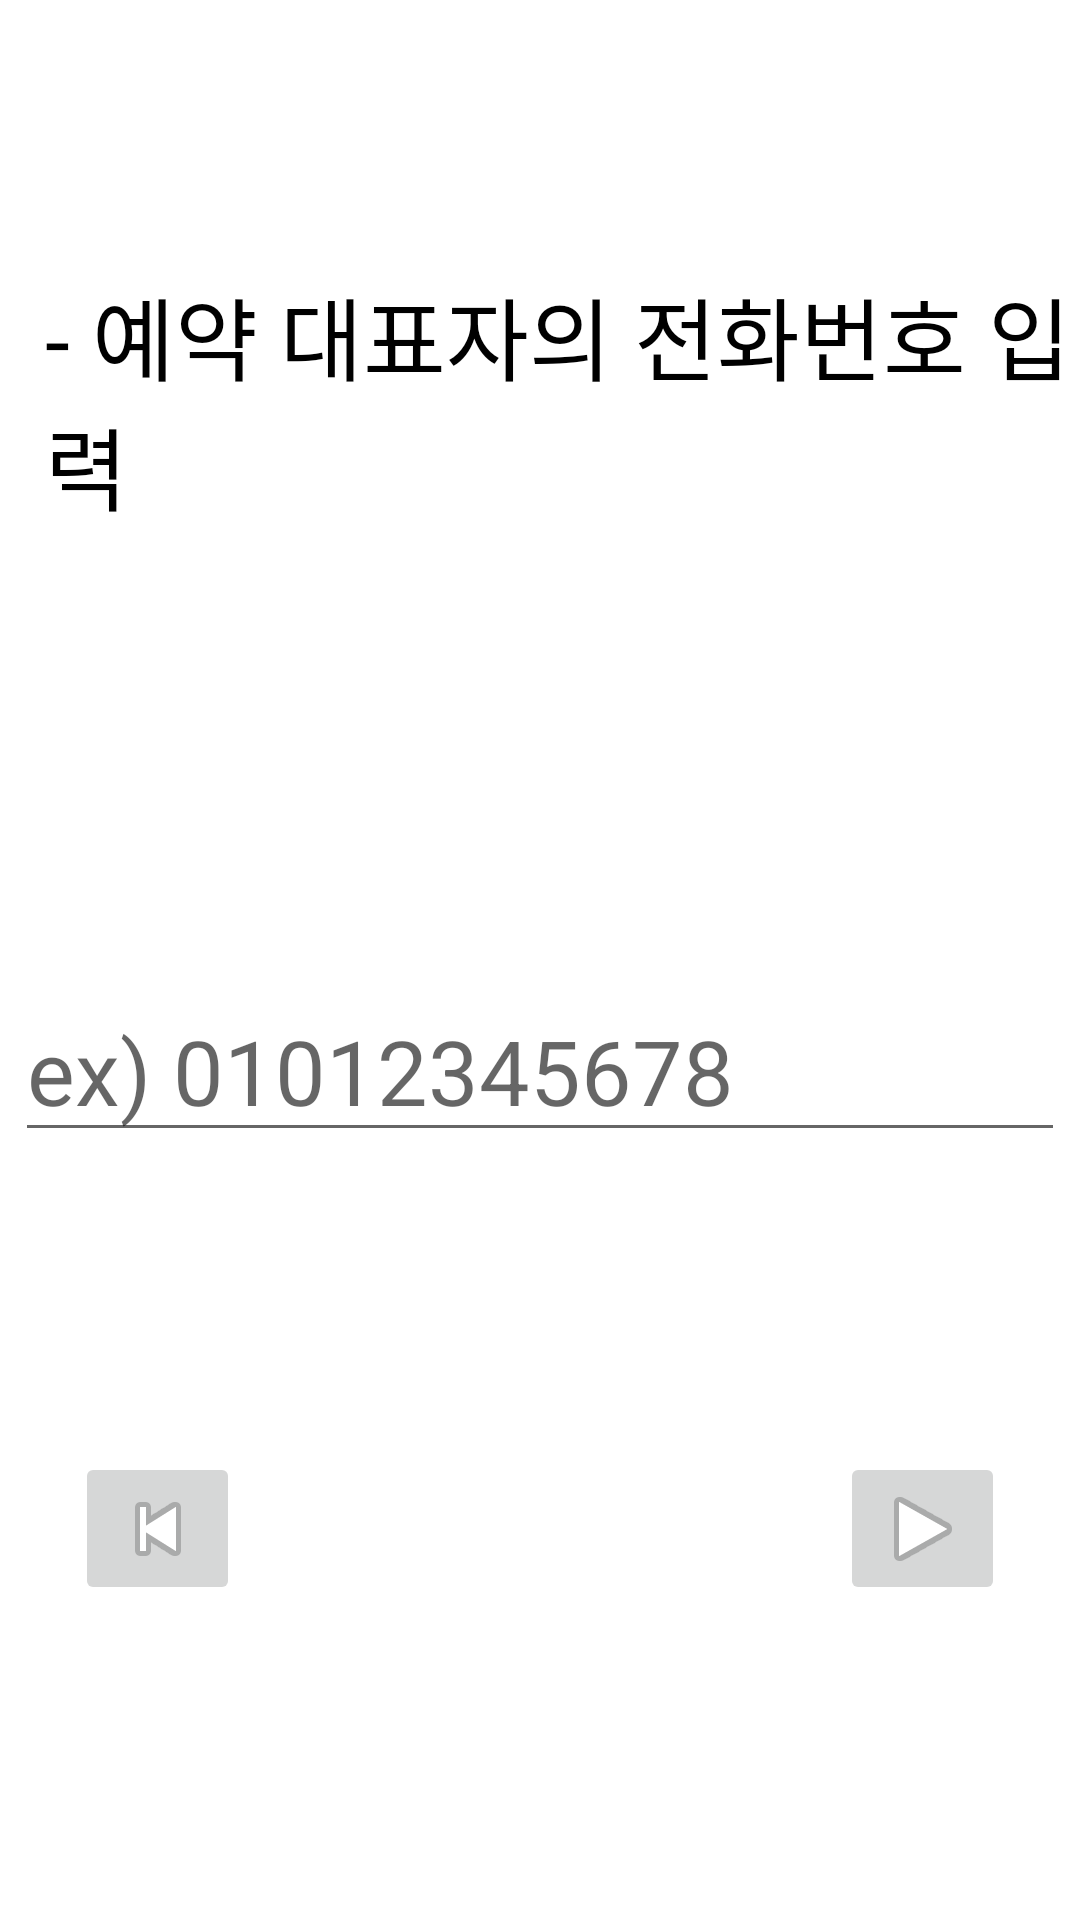

Icon click points for this 1080 × 1920 phone screenshot, format [x,y]:
play: [922,1528]
previous: [157,1528]
